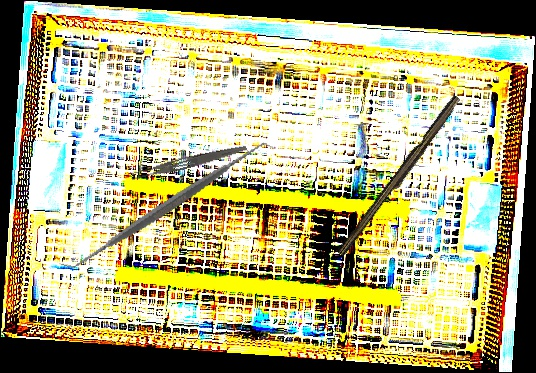Dressing Forceps: (129, 139, 248, 184)
Scalpel Handle: (336, 92, 464, 261)
Spatula Surgical: (57, 95, 277, 317)
